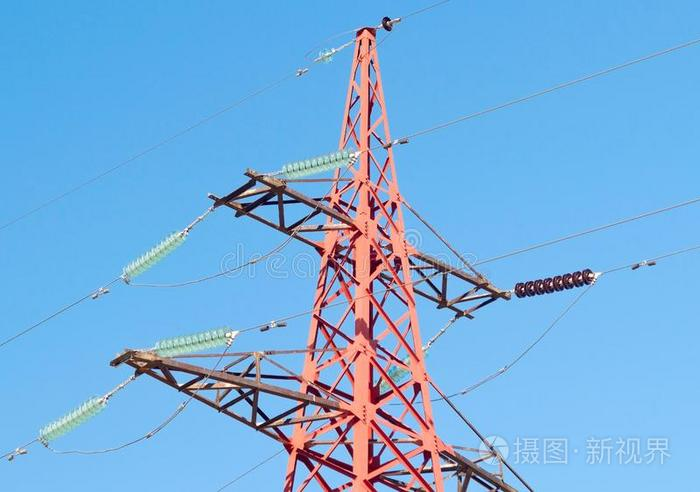insulator: (40, 394, 105, 442), (124, 230, 187, 275), (515, 269, 597, 298), (154, 329, 228, 357), (281, 152, 351, 177)
